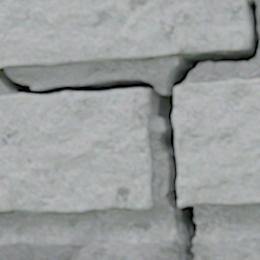brick: (0, 89, 152, 211), (0, 0, 251, 67), (173, 79, 259, 205)
broken_brick: (0, 239, 179, 259), (193, 236, 259, 259)
crack: (0, 0, 259, 259)
